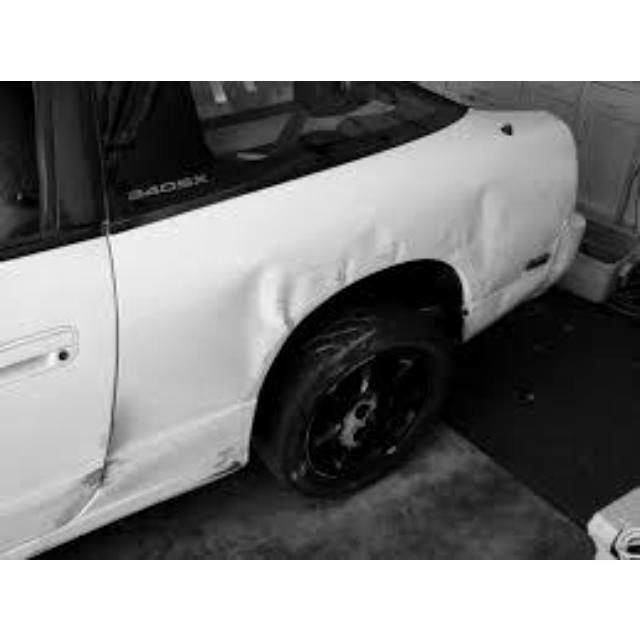doorouter-dent: (3, 236, 109, 520)
quaterpanel-dent: (307, 174, 512, 314)
